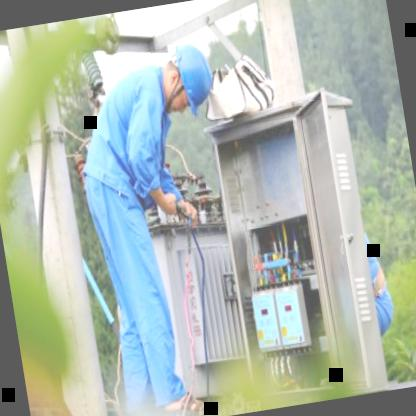helmet: (161, 32, 222, 118)
